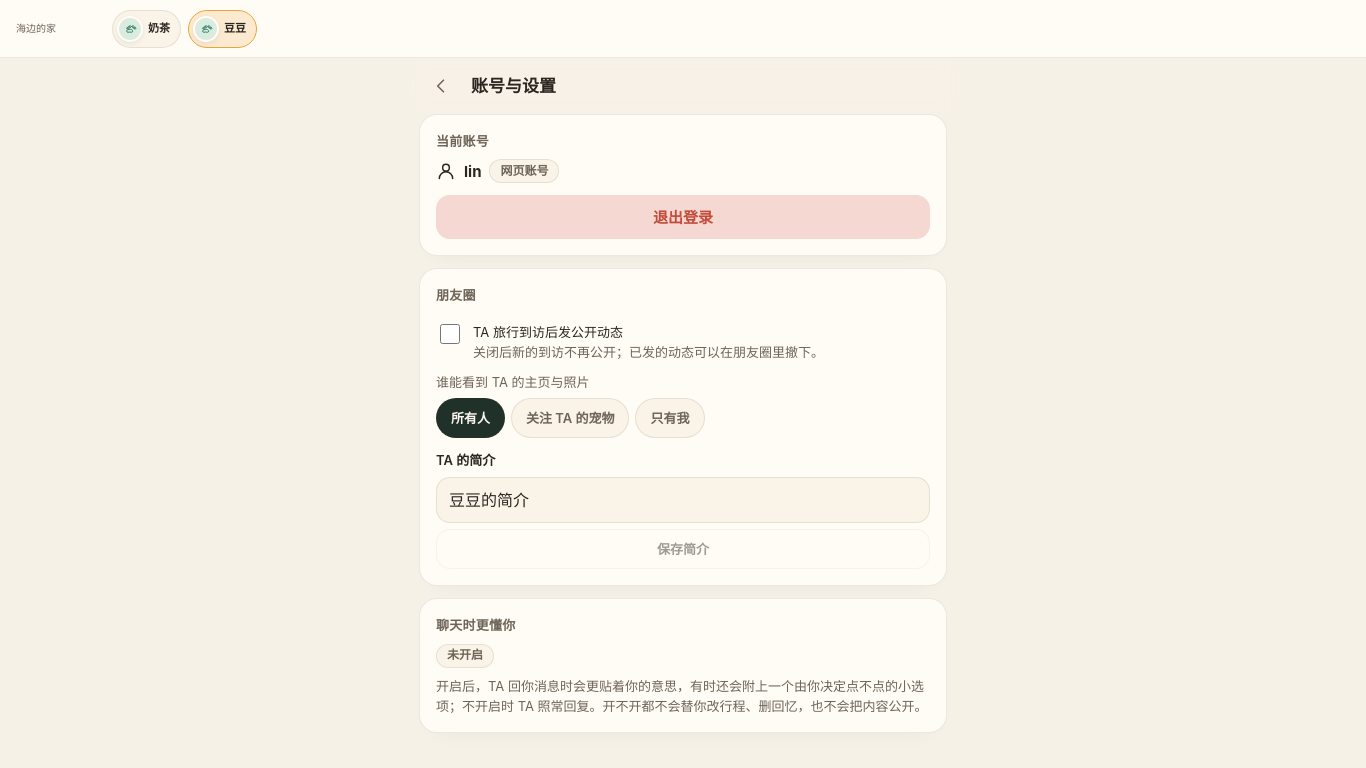
Scenario: 设置：读、存都带当前宠物 › 当前是豆豆：显示豆豆的简介（不是第一只的）；存简介带 pet-b；切到奶茶后表单换成奶茶的
Replace the text in the field labelled "TA 的简介" with "豆豆爱晒太阳": coordinates (683, 500) [436,477,930,523]
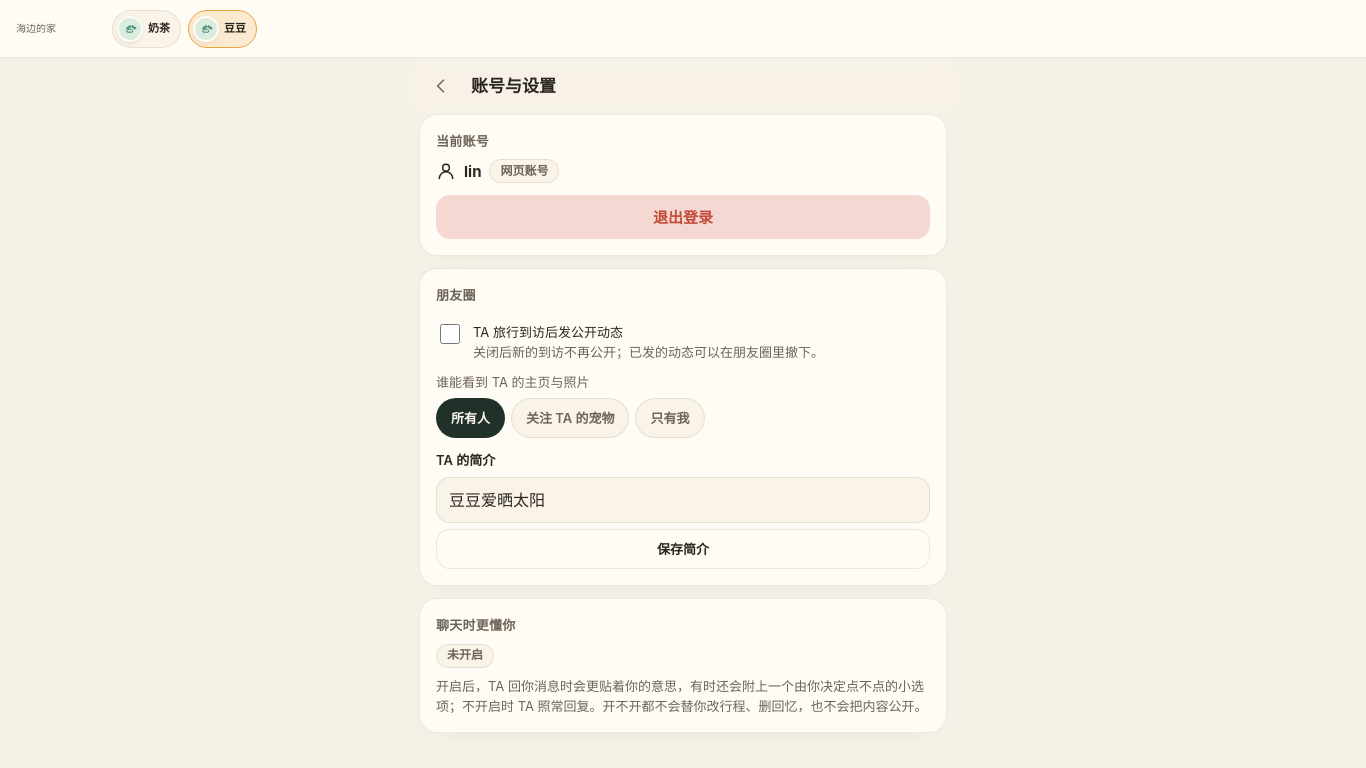
Click the button "保存简介": coordinates (683, 549) [436,529,930,569]
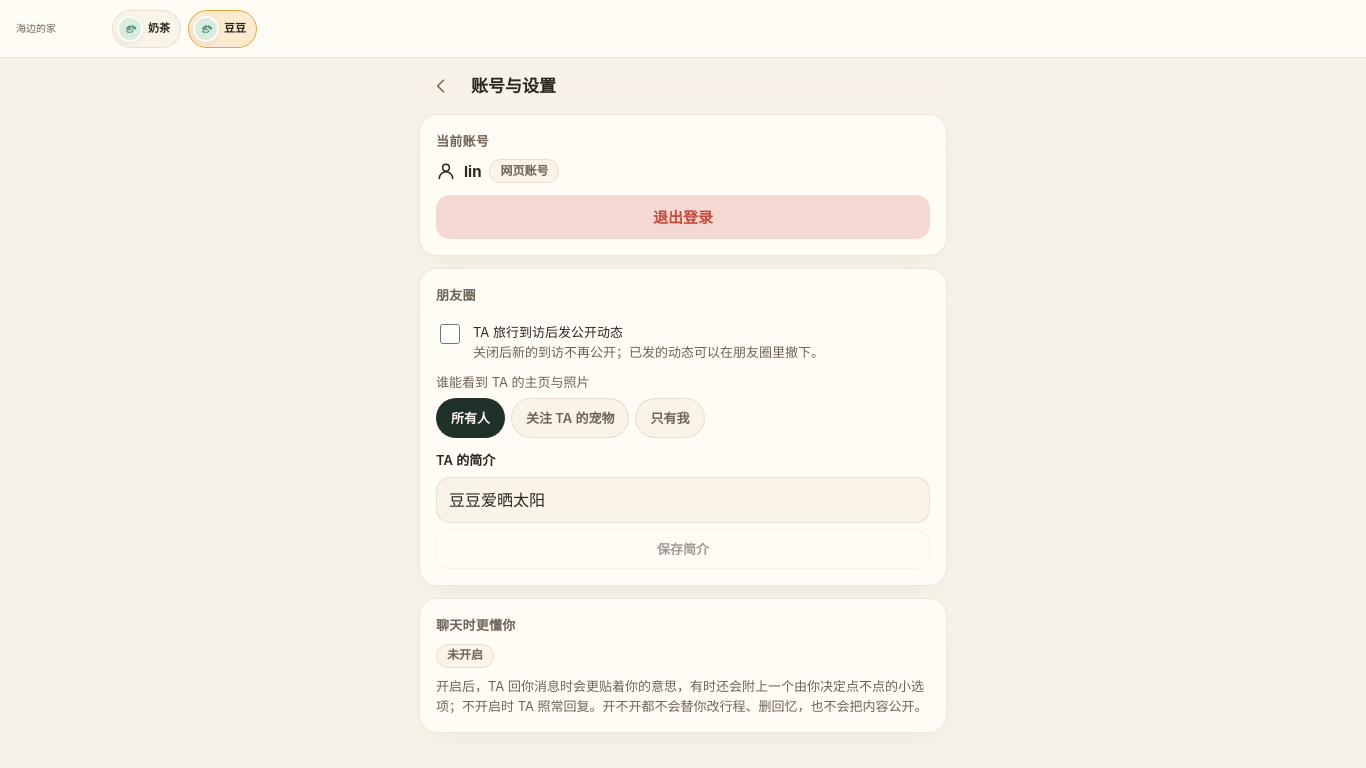
Click the button "奶茶": coordinates (146, 28) [112,10,181,48]
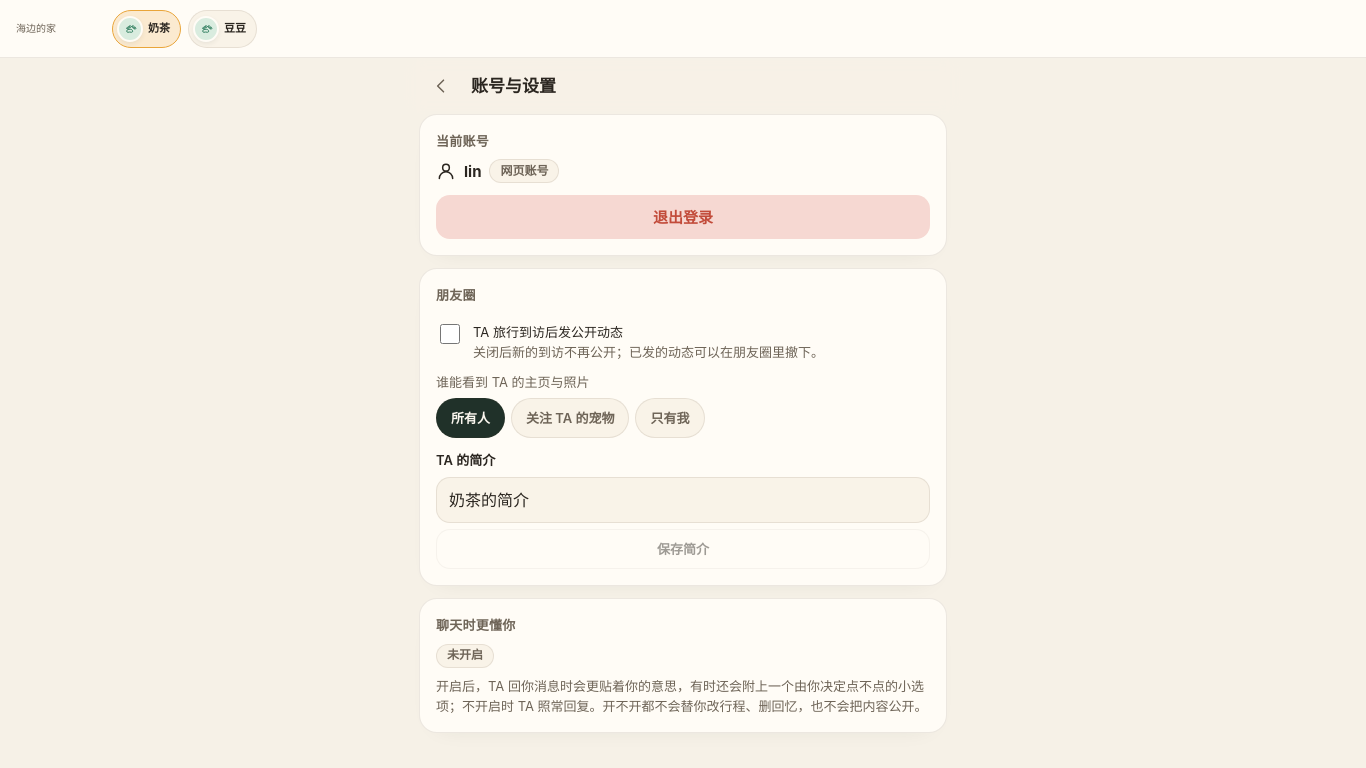
Expected: the field labelled "TA 的简介" holds "奶茶的简介", [436,477,930,523]
Click the button "只有我": coordinates (670, 418) [636,398,704,438]
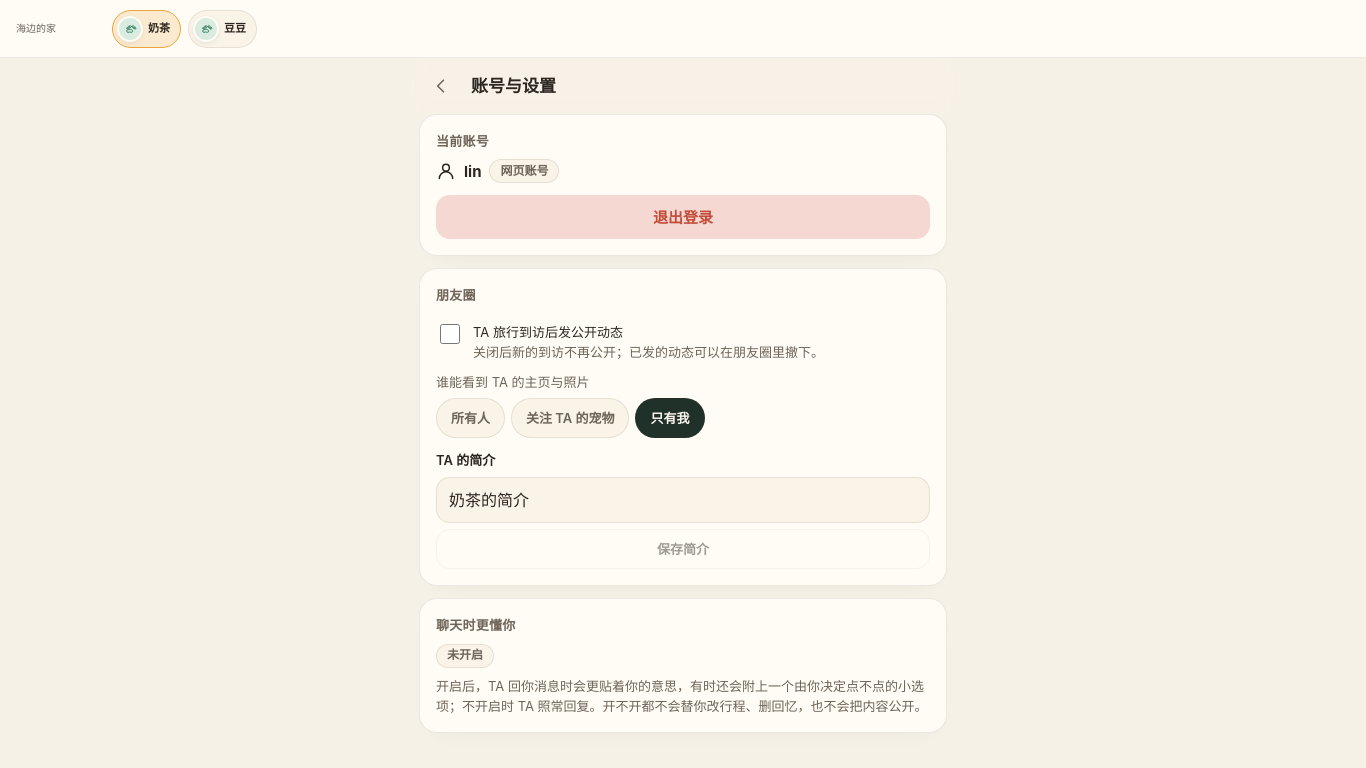
Click the button "豆豆": coordinates (222, 28) [188,10,257,48]
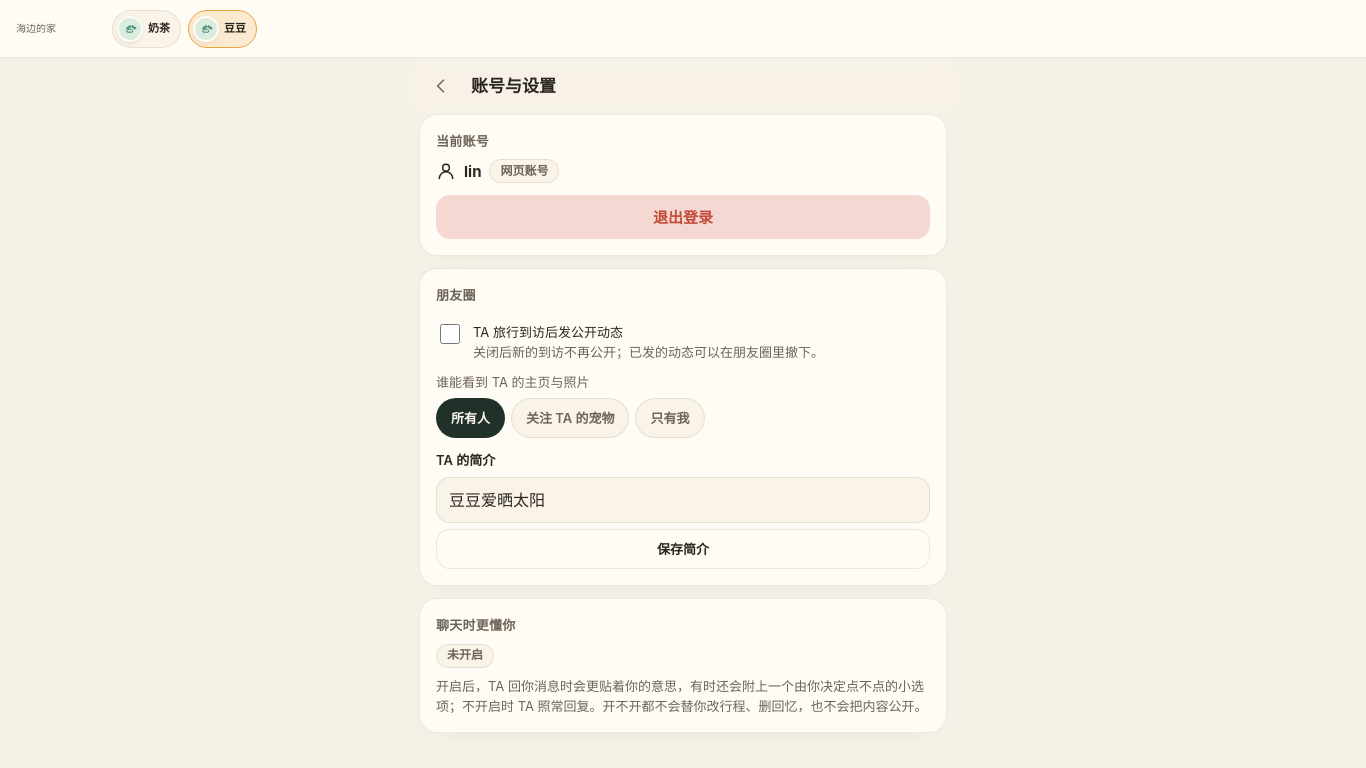
Expected: the field labelled "TA 的简介" holds "豆豆爱晒太阳", [436,477,930,523]
